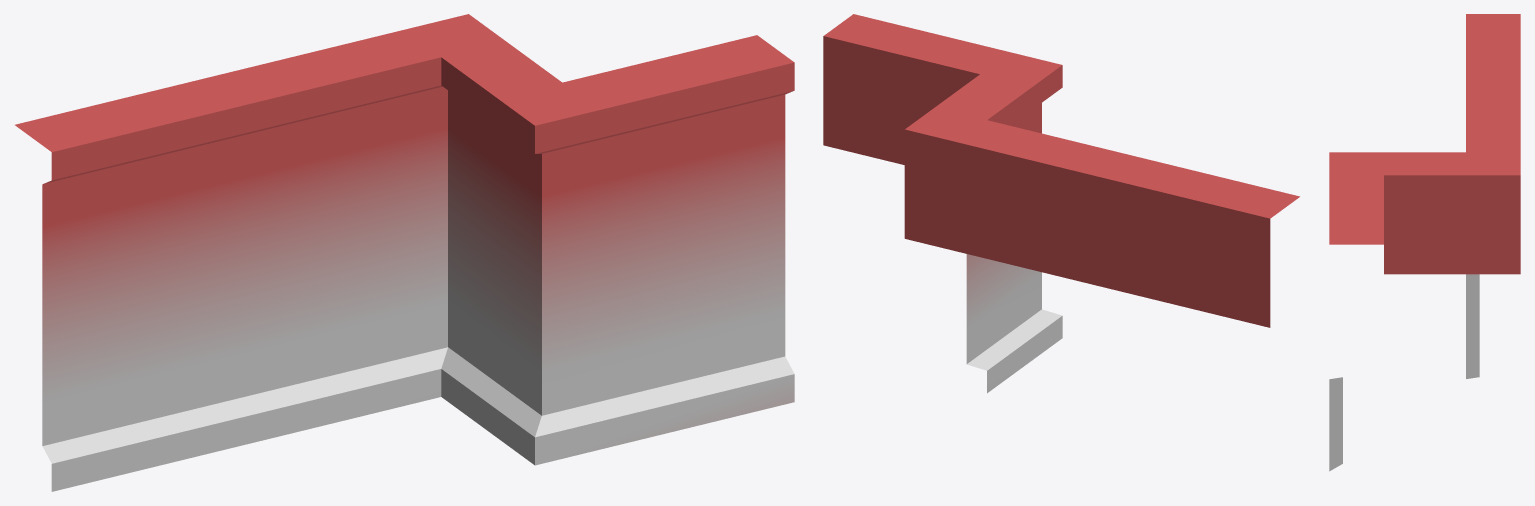
The model's file is Cornice_Metal_90Angle_R.gltf.
3 renders of one model, left to right at view 1: azimuth 30°, elevation 25°; view 2: azimuth 150°, elevation 25°; view 3: azimuth 270°, elevation 25°, orthographic. The views are drawn at different scales.
Visible parts, largest first — view 1: Cornice_Metal_90Angle_R; view 2: Cornice_Metal_90Angle_R; view 3: Cornice_Metal_90Angle_R.
Boxes of the visible parts, box(x1,y1,x2,y2) form: Cornice_Metal_90Angle_R: box(15, 14, 794, 491); Cornice_Metal_90Angle_R: box(823, 14, 1299, 393); Cornice_Metal_90Angle_R: box(1329, 14, 1520, 471).
Size of the model in its own units: 2 by 1 by 0.7.
